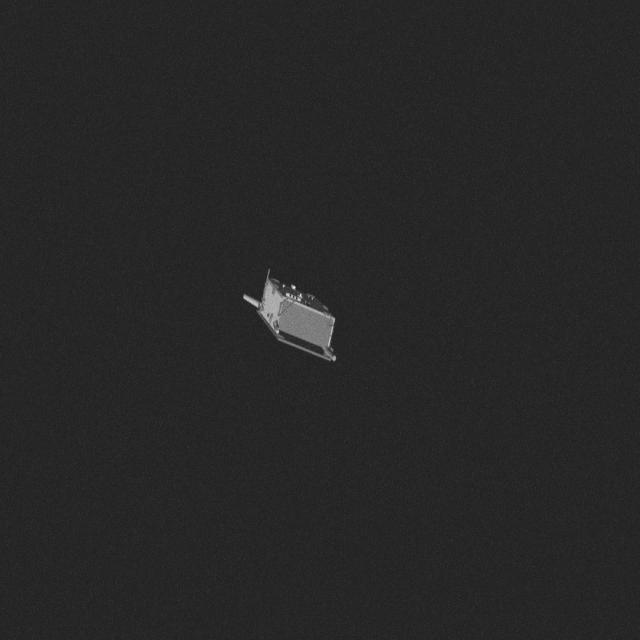satellite: (240, 272, 358, 366)
